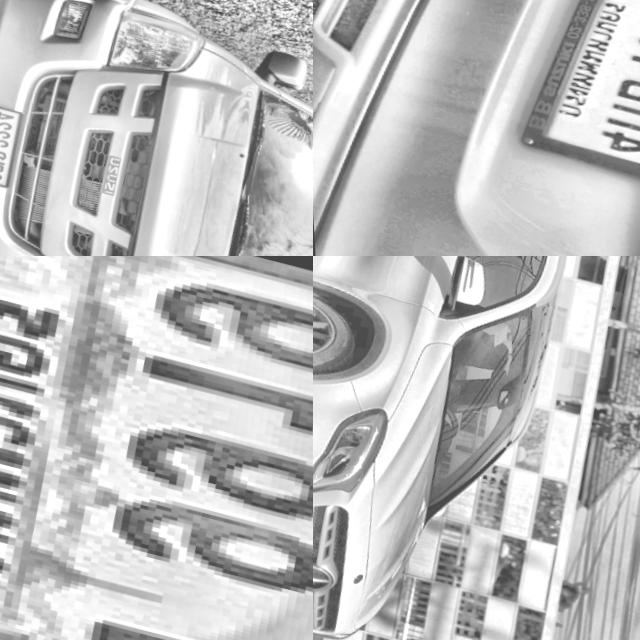license-plate: (0, 256, 313, 640), (501, 0, 640, 196), (0, 94, 25, 189)
